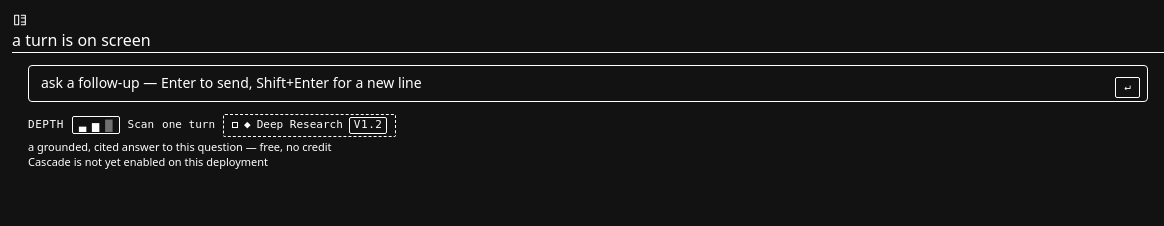
Test: TemplateLibrary: degradations › a cold catalog still opens the library and still takes free typing
Click the button named "template library". click: (20, 20)
box: [12,12,28,28]
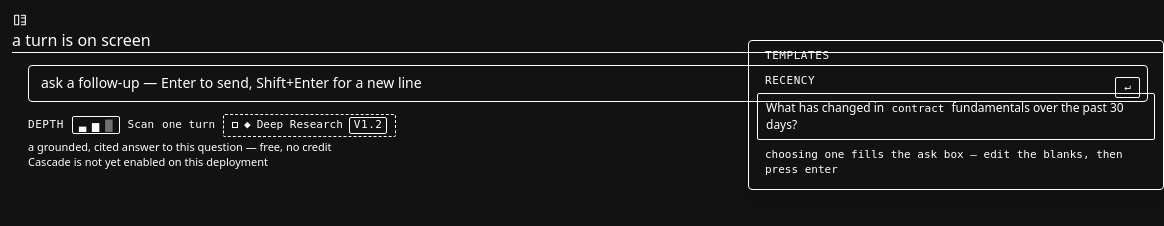
Click the button that starts with "What has changed in". click: (956, 116)
box: [757,93,1155,140]
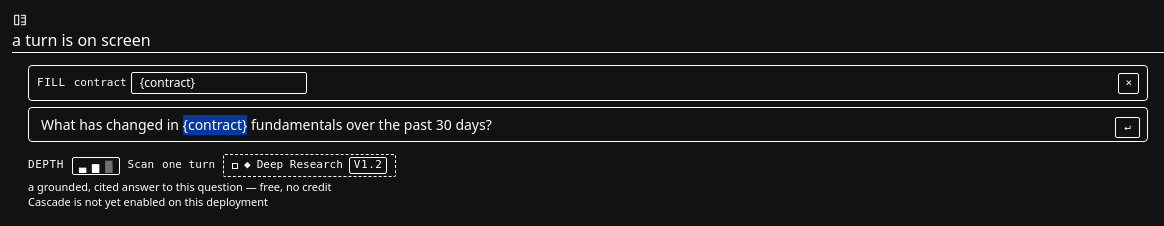
Result: the element with test id "slot-bar" is shown at [28,65,1148,101]
Type "corn" into the field named "contract slot". click: (219, 83)
box: [131,72,307,94]
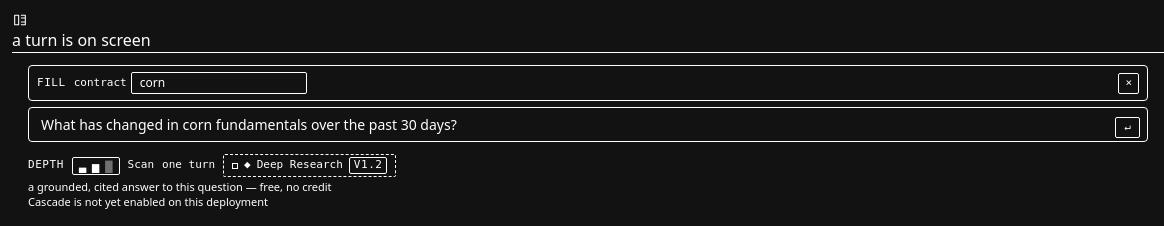
Result: the text box with test id "composer" holds "What has changed in corn fundamentals over the past 30 days?" at [28,107,1148,142]
